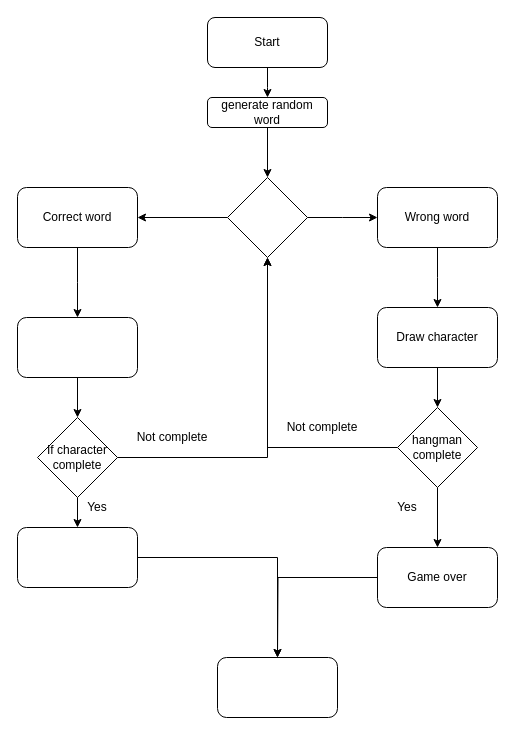
Image size: 515x735. Some labels were removed from this diagram. The shapes that lost their labels are listed below. From the top down, each one's centre as x and y in pixels, then its label:
point 267,217: Guess a word
point 77,347: Fill in the correct word
point 77,557: You Win, Game Completed
point 277,687: Stop
